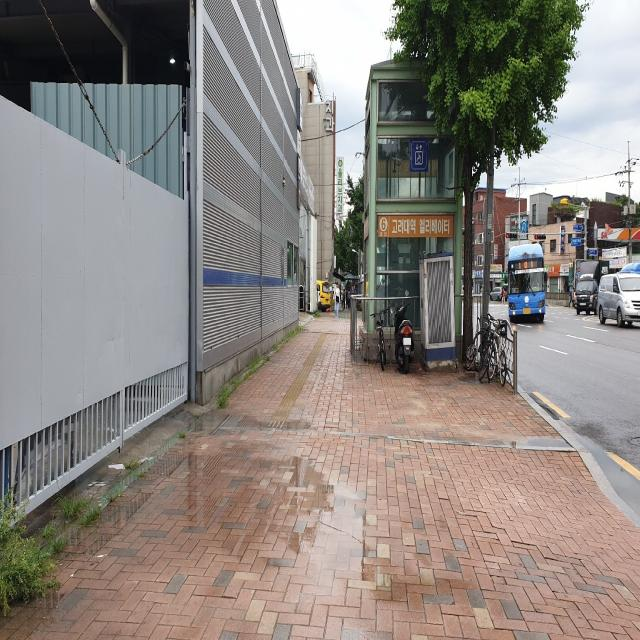car: (597, 274, 640, 328), (574, 260, 610, 315)
motorbike: (390, 289, 414, 373)
